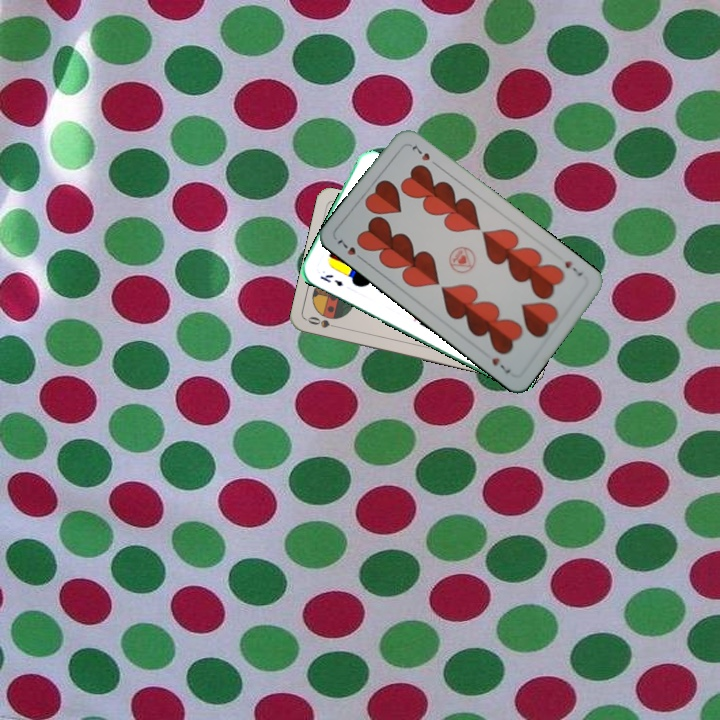EK: (316, 270, 346, 289)
H7: (333, 234, 367, 264), (560, 256, 585, 279)
SO: (304, 312, 344, 331)
